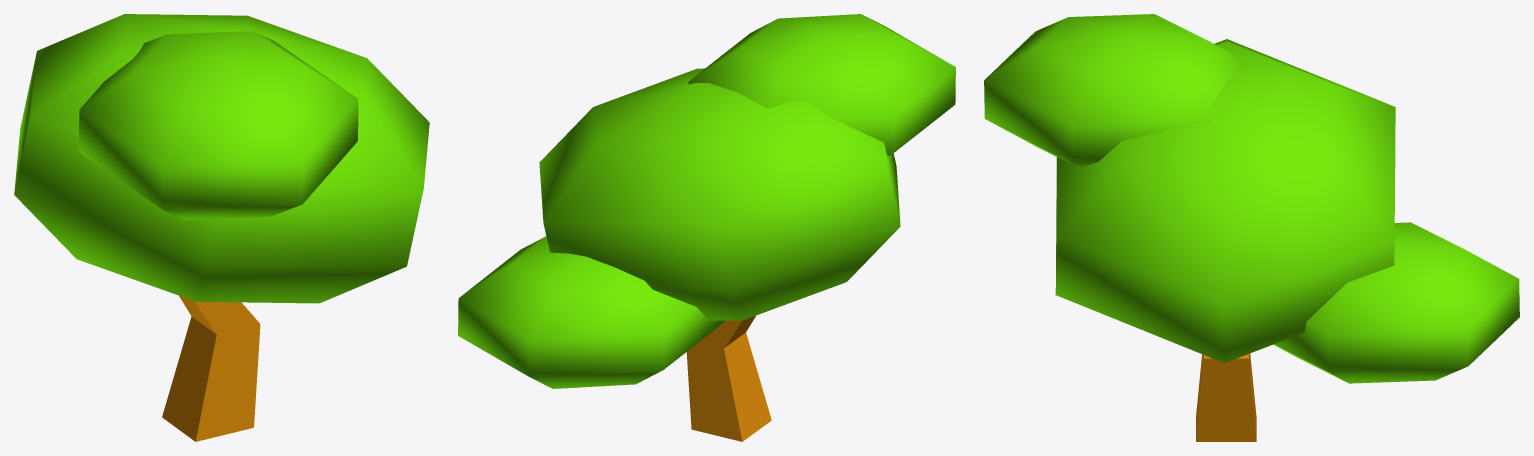
Rendered from Arbol1.fbx.
3 renders of one model, left to right at view 1: azimuth 30°, elevation 25°; view 2: azimuth 150°, elevation 25°; view 3: azimuth 270°, elevation 25°, orthographic. The views are drawn at different scales.
Visible parts, largest first — view 1: pSphere3; view 2: pSphere3; view 3: pSphere3.
Boxes of the visible parts, x1,y1,x2,y2 form: pSphere3: (14,14,429,441); pSphere3: (458,14,955,441); pSphere3: (984,14,1519,441).
Bounding box in the file's own units: 0.767 × 0.7406 × 0.9556.
